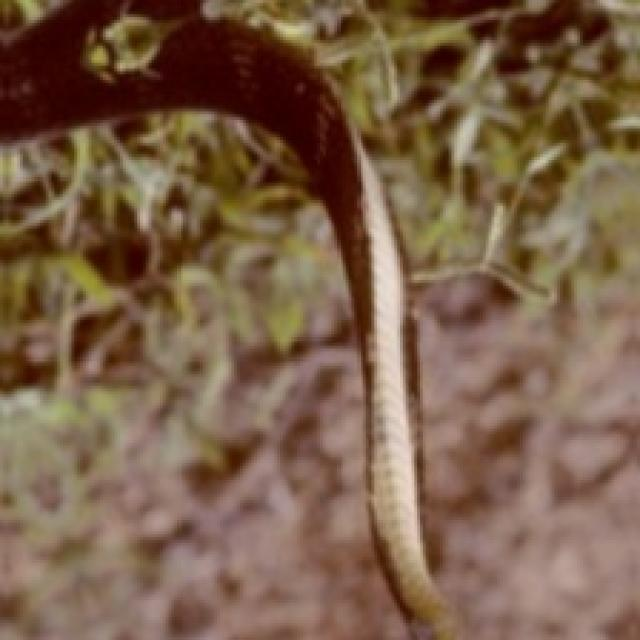king cobra: (0, 0, 454, 637)
